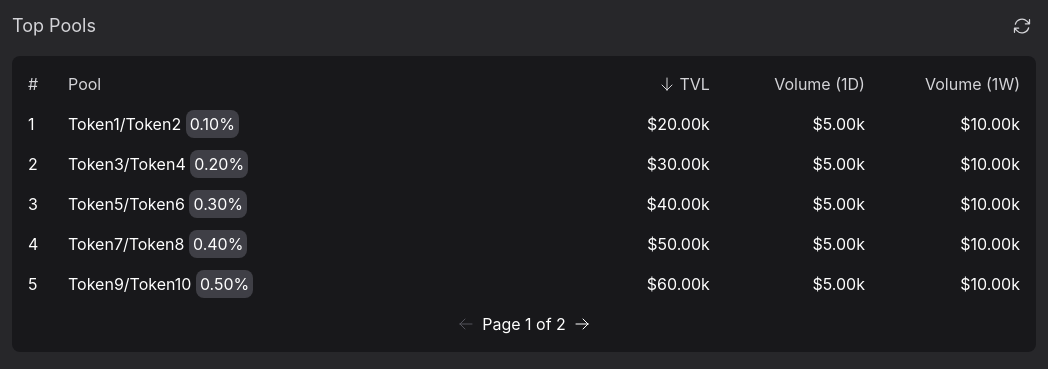
PoolTable › Pool table pagination works
Click the icon with test id "pool-right-arrow": point(582, 324) [574,316,590,332]
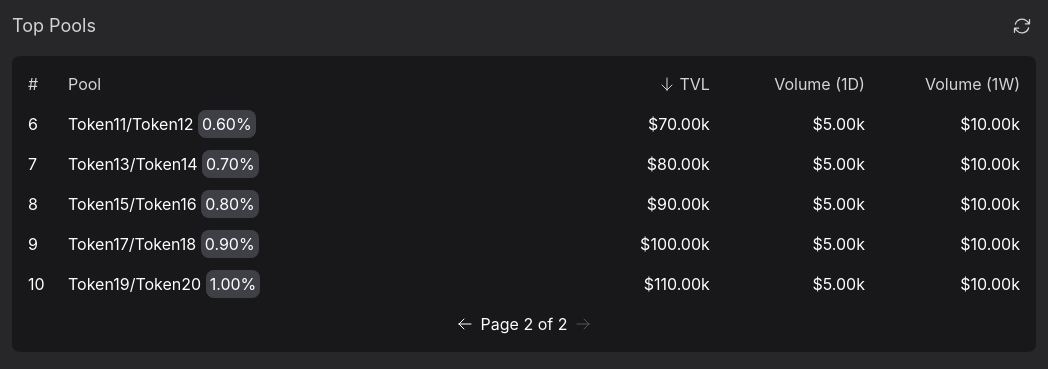
Result: no links "Token1/Token2" are shown
